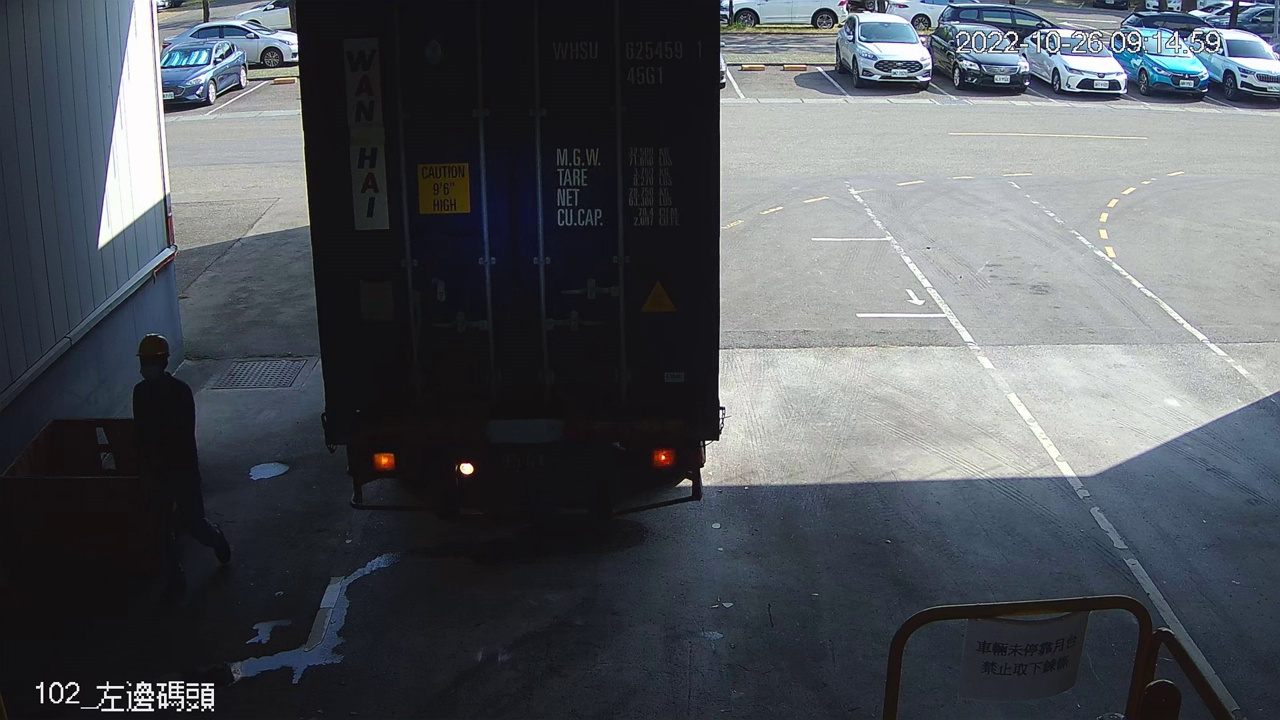container: (544, 31, 710, 93)
